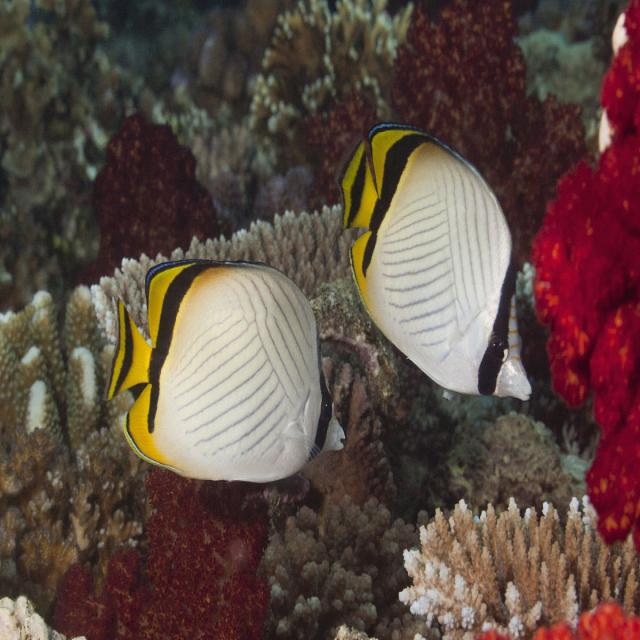ButterflyFish: (344, 126, 531, 414), (110, 260, 343, 484)
